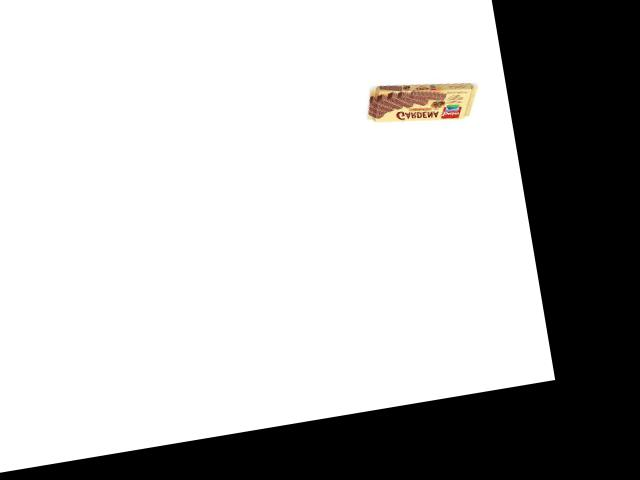chocolate: (358, 73, 486, 136)
